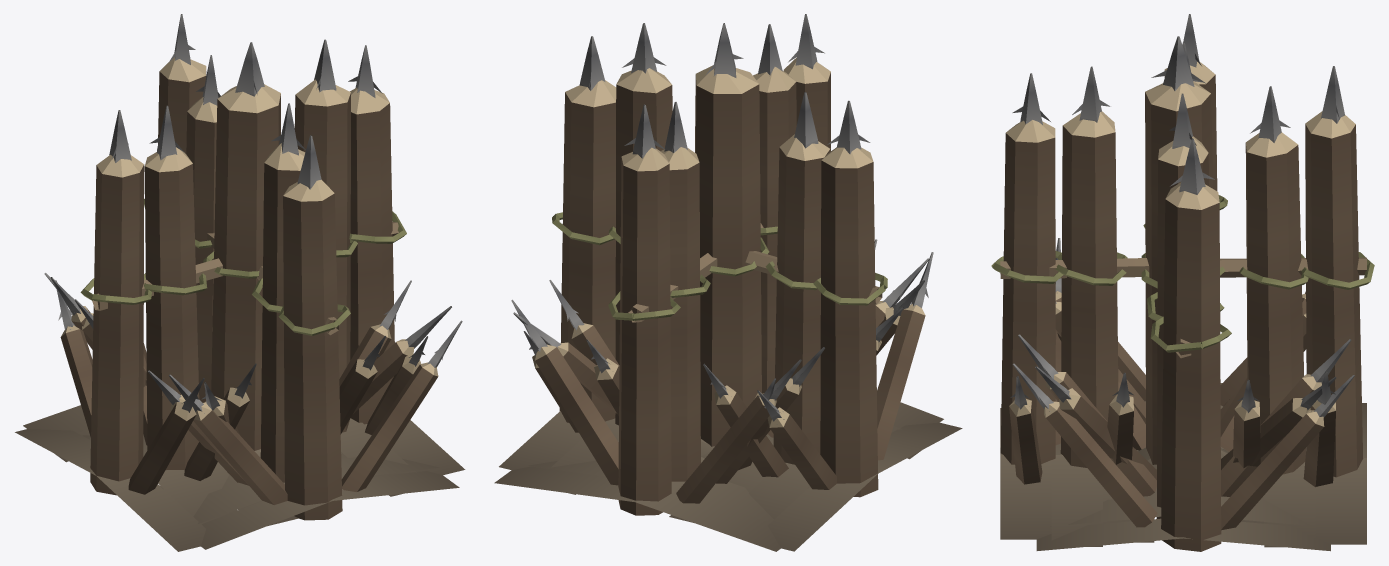
File: iron_palisade_a.glb
3 renders of one model, left to right at view 1: azimuth 30°, elevation 25°; view 2: azimuth 150°, elevation 25°; view 3: azimuth 270°, elevation 25°, orthographic. The views are drawn at different scales.
Visible parts, largest first — view 1: Run_W, Run_S, Run_E, Post, Run_N; view 2: Run_W, Run_N, Run_E, Post, Run_S; view 3: Run_S, Run_E, Run_N, Post, Run_W.
Boxes of the visible parts, box(x1,y1,x2,y2) form: Run_W: box(15, 105, 298, 551); Run_S: box(148, 103, 462, 549); Run_E: box(294, 39, 465, 496); Post: box(44, 42, 451, 473); Run_N: box(23, 14, 220, 462); Run_W: box(669, 92, 962, 551); Run_N: box(494, 102, 824, 551); Run_E: box(499, 23, 672, 494); Post: box(513, 23, 928, 470); Run_S: box(753, 14, 943, 459); Run_S: box(991, 66, 1154, 546); Run_E: box(1012, 93, 1354, 551); Run_N: box(1220, 66, 1374, 547); Post: box(1035, 36, 1336, 479); Run_W: box(1055, 14, 1306, 448).
Bounding box in the file's own units: 1.05 × 1.32 × 1.05.
